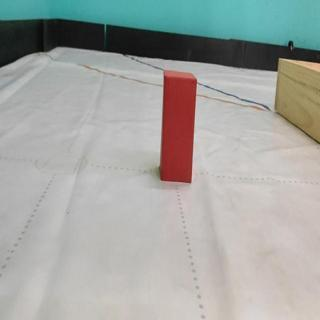redbox: (162, 68, 197, 184)
